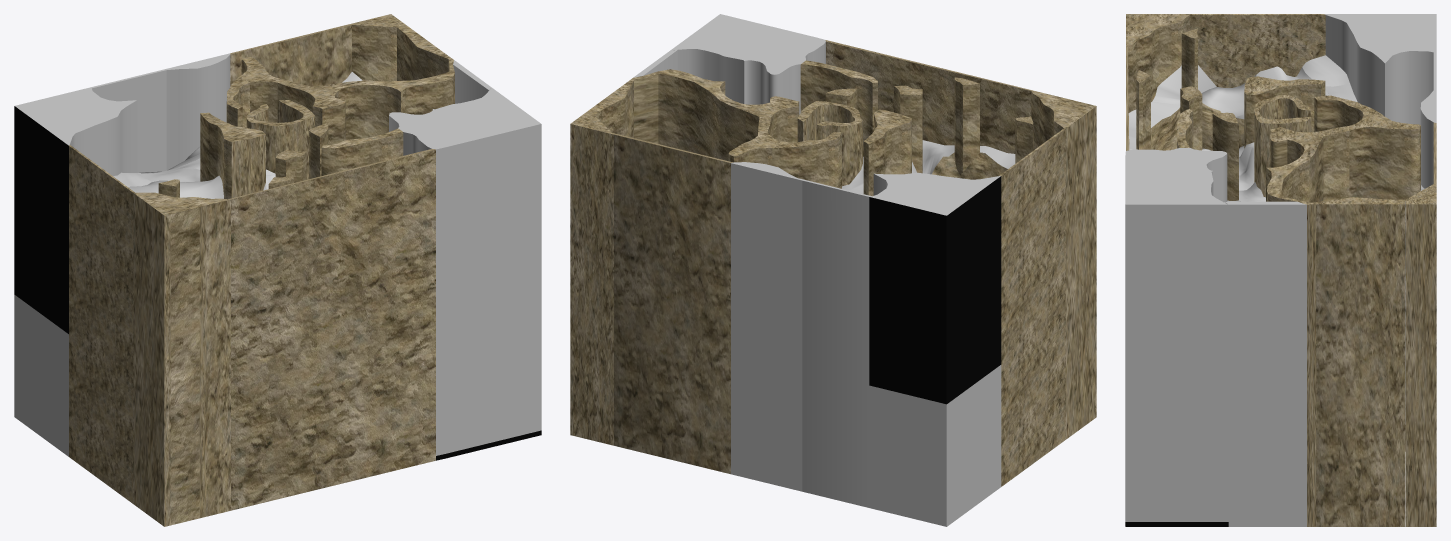
File: Lake_Textured.FBX
3 views of the same model, side by side, from view 1: azimuth 30°, elevation 25°; view 2: azimuth 150°, elevation 25°; view 3: azimuth 270°, elevation 25° (orthographic). The views are drawn at different scales.
Visible parts, largest first — view 1: Added Wall_South, Land Above Water_Bottom Right Deep Sea Biome, Land Above Water_Southwest Corner, Added Wall_West, Land Above Water_Top Left Deep Sea Biome_LAND, Land Above Water_Top Left Deep Sea Biome_CAVE, Land Above Water_North of Start Area5, Land Above Water_North of Start Area4, Added Wall_North, Land Above Water_West of Start Area, Added Wall_North001, Land Above Water_Top Right Area001 (+11 smaller); view 2: Added Wall_North, Land Above Water_Top Left Deep Sea Biome_LAND, Land Above Water_North of Start Area5, Added Wall_North001, Added Wall_West, Land Above Water_Top Left Deep Sea Biome_CAVE, Land Above Water_Top Right Area001, Land Above Water_Southwest Corner, Land Above Water_Bottom Right Deep Sea Biome, Added Wall_South, Land Above Water_North of Start Area4, Land Above Water_Start Area (+11 smaller); view 3: Land Above Water_Bottom Right Deep Sea Biome, Land Above Water_Top Right Area, Added Wall_East, Land Above Water_Top Right Area001, Land Above Water_Top Left Deep Sea Biome_LAND, Added Wall_West, Land Above Water_North of Start Area2, Land Above Water_North of Start Area4, Land Above Water_Southwest Corner, Land Above Water_North of Start Area3, Land Above Water_Start Area, Land Above Water_West of Start Area (+15 smaller).
Part boxes in pixels (box(x1,y1,x2,y2)): Added Wall_South: box(228, 149, 435, 510); Land Above Water_Bottom Right Deep Sea Biome: box(389, 88, 541, 460); Land Above Water_Southwest Corner: box(133, 192, 230, 526); Added Wall_West: box(69, 145, 134, 503); Land Above Water_Top Left Deep Sea Biome_LAND: box(14, 87, 137, 333); Land Above Water_Top Left Deep Sea Biome_CAVE: box(14, 295, 68, 456); Land Above Water_North of Start Area5: box(160, 53, 230, 170); Land Above Water_North of Start Area4: box(330, 56, 454, 139); Added Wall_North: box(230, 24, 351, 86); Land Above Water_West of Start Area: box(200, 112, 265, 199); Added Wall_North001: box(92, 70, 166, 172); Land Above Water_Top Right Area001: box(348, 14, 405, 81); Added Wall_North: box(613, 133, 733, 474); Land Above Water_Top Left Deep Sea Biome_LAND: box(869, 172, 1001, 404); Land Above Water_North of Start Area5: box(731, 162, 802, 491); Added Wall_North001: box(798, 178, 871, 507); Added Wall_West: box(999, 128, 1065, 486); Land Above Water_Top Left Deep Sea Biome_CAVE: box(869, 365, 1001, 526); Land Above Water_Top Right Area001: box(570, 113, 613, 445); Land Above Water_Southwest Corner: box(1031, 90, 1096, 439); Land Above Water_Bottom Right Deep Sea Biome: box(671, 14, 825, 114); Added Wall_South: box(825, 40, 1031, 153); Land Above Water_North of Start Area4: box(629, 69, 753, 160); Land Above Water_Start Area: box(797, 101, 862, 186); Land Above Water_Bottom Right Deep Sea Biome: box(1125, 148, 1228, 526); Land Above Water_Top Right Area: box(1311, 197, 1405, 526); Added Wall_East: box(1224, 201, 1306, 526); Land Above Water_Top Right Area001: box(1405, 182, 1436, 526); Land Above Water_Top Left Deep Sea Biome_LAND: box(1324, 14, 1436, 124); Added Wall_West: box(1190, 14, 1325, 87); Land Above Water_North of Start Area2: box(1349, 115, 1420, 451); Land Above Water_North of Start Area4: box(1266, 144, 1318, 526); Land Above Water_Southwest Corner: box(1126, 14, 1190, 112); Land Above Water_North of Start Area3: box(1270, 126, 1349, 201); Land Above Water_Start Area: box(1254, 95, 1311, 197); Land Above Water_West of Start Area: box(1244, 76, 1325, 148).
Bounding box in the file's own units: 41822 × 33000 × 28870.
